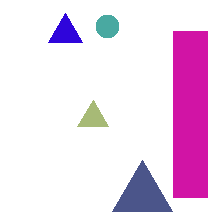circle: (96, 15, 118, 37)
rectangle: (173, 31, 207, 197)
triangle: (112, 160, 172, 211), (48, 13, 82, 42), (77, 100, 108, 126)
